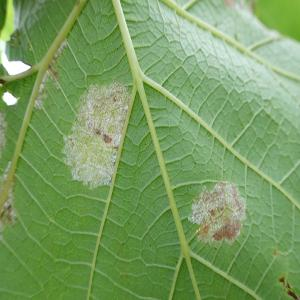Folha: (1, 0, 299, 299)
Fungo: (61, 78, 131, 189), (187, 180, 247, 248), (0, 160, 18, 228)
